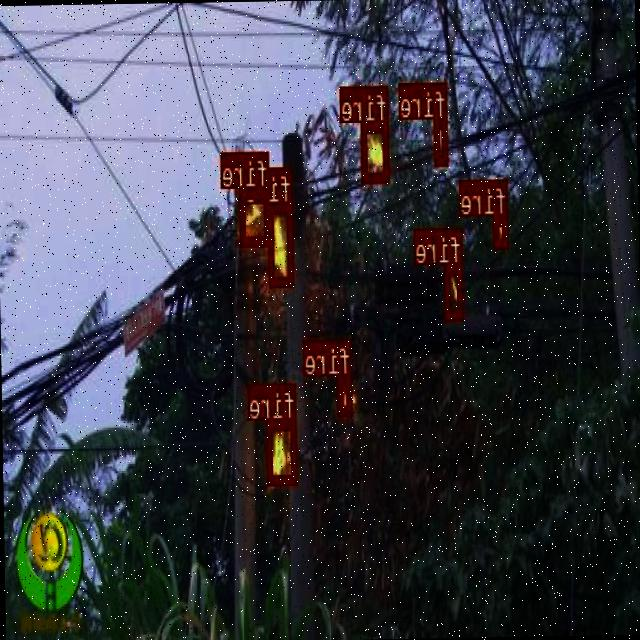fire: (268, 202, 294, 284), (268, 417, 298, 483), (240, 187, 271, 244), (362, 120, 390, 181), (444, 264, 464, 318), (434, 116, 448, 164), (339, 373, 353, 414), (494, 214, 509, 246)
